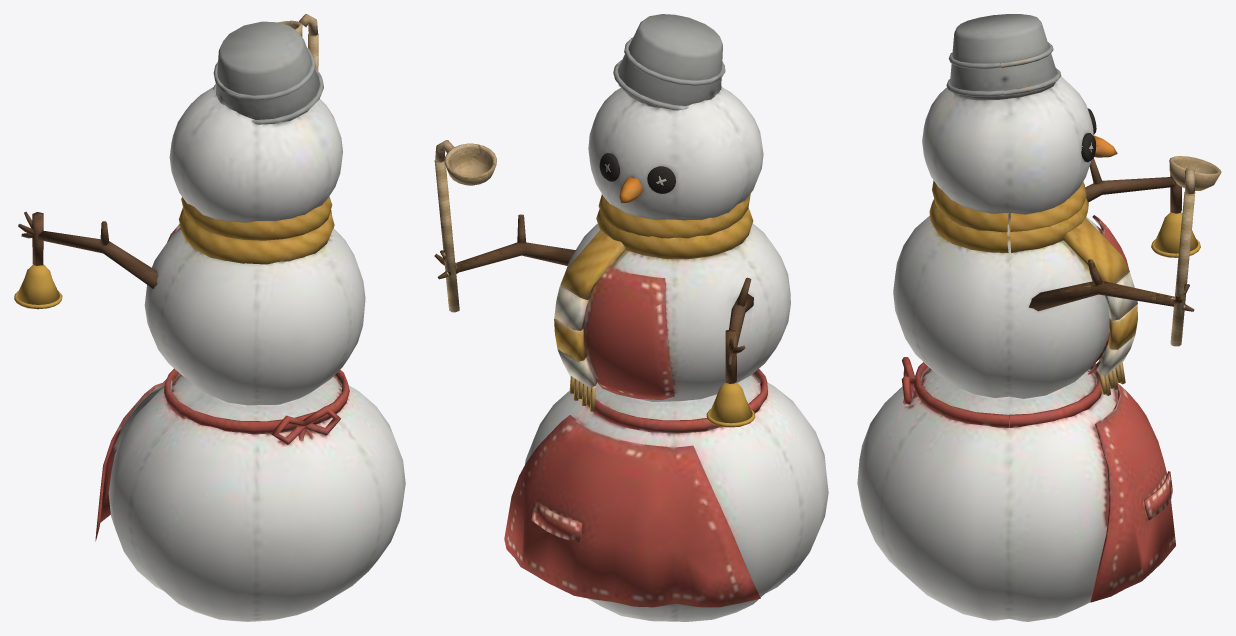
Rendered from snowman.glb.
3 views of the same model, side by side, from view 1: azimuth 30°, elevation 25°; view 2: azimuth 150°, elevation 25°; view 3: azimuth 270°, elevation 25° (orthographic). The views are drawn at different scales.
Parts seen in each view (by area): view 1: prop_base_felt, prop_chest_felt, prop_head_felt, prop_arm_l_wood, prop_arm_l_brass, prop_arm_r_wood; view 2: prop_base_felt, prop_chest_felt, prop_head_felt, prop_arm_r_wood, prop_arm_l_brass, prop_arm_l_wood, prop_head_wood; view 3: prop_base_felt, prop_chest_felt, prop_head_felt, prop_arm_r_wood, prop_arm_l_wood, prop_arm_l_brass.
Boxes of the visible parts, x1,y1,x2,y2 form: prop_base_felt: (95, 368, 405, 621); prop_chest_felt: (144, 196, 365, 405); prop_head_felt: (169, 21, 342, 222); prop_arm_l_wood: (18, 211, 158, 288); prop_arm_l_brass: (14, 264, 62, 309); prop_arm_r_wood: (279, 14, 331, 213); prop_base_felt: (504, 369, 828, 621); prop_chest_felt: (554, 194, 790, 411); prop_head_felt: (588, 14, 763, 220); prop_arm_r_wood: (434, 140, 575, 312); prop_arm_l_brass: (706, 382, 755, 427); prop_arm_l_wood: (725, 277, 753, 383); prop_head_wood: (599, 153, 675, 193); prop_base_felt: (857, 357, 1175, 621); prop_chest_felt: (893, 180, 1137, 398); prop_head_felt: (922, 14, 1117, 222); prop_arm_r_wood: (1029, 156, 1221, 346); prop_arm_l_wood: (1085, 158, 1181, 213); prop_arm_l_brass: (1151, 212, 1200, 257).
Size of the model in its own units: 0.7981 by 1.39 by 0.7857.
8 materials, 7 textured.
